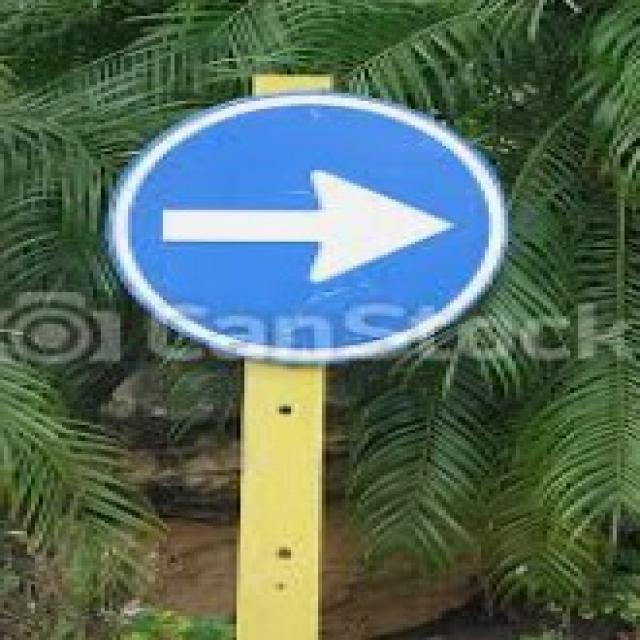Turn Right: (111, 103, 515, 358)
